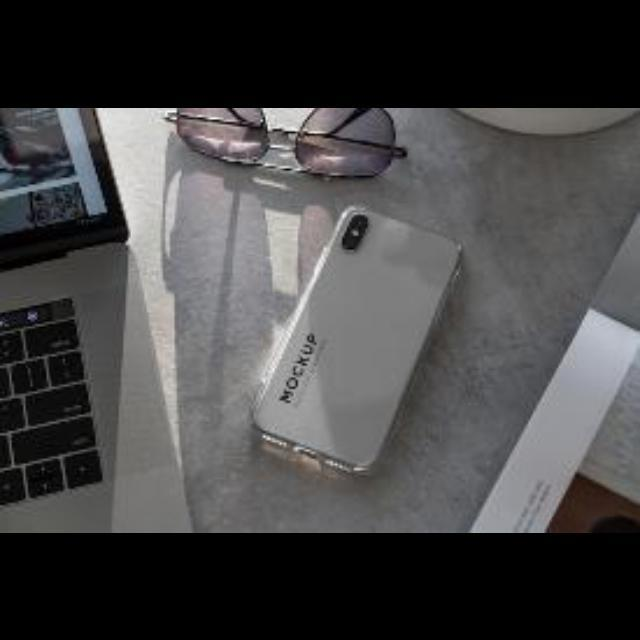Phone: (248, 214, 482, 474)
